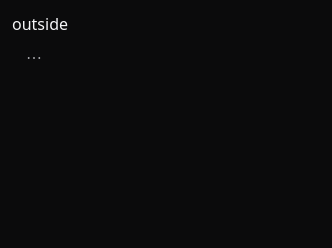
Scenario: ActionMenu › starts closed and opens the shared menu with its items
Click the button named "More options": (34, 58) [12,36,56,80]
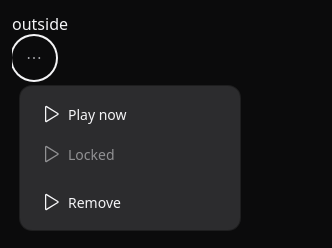
Result: the button named "More options" is expanded at [12,36,56,80]
Result: the menu is shown at [20,86,240,230]
Result: the number of menu items is 3 at [28,94,232,134]; [28,134,232,174]; [28,182,232,222]
